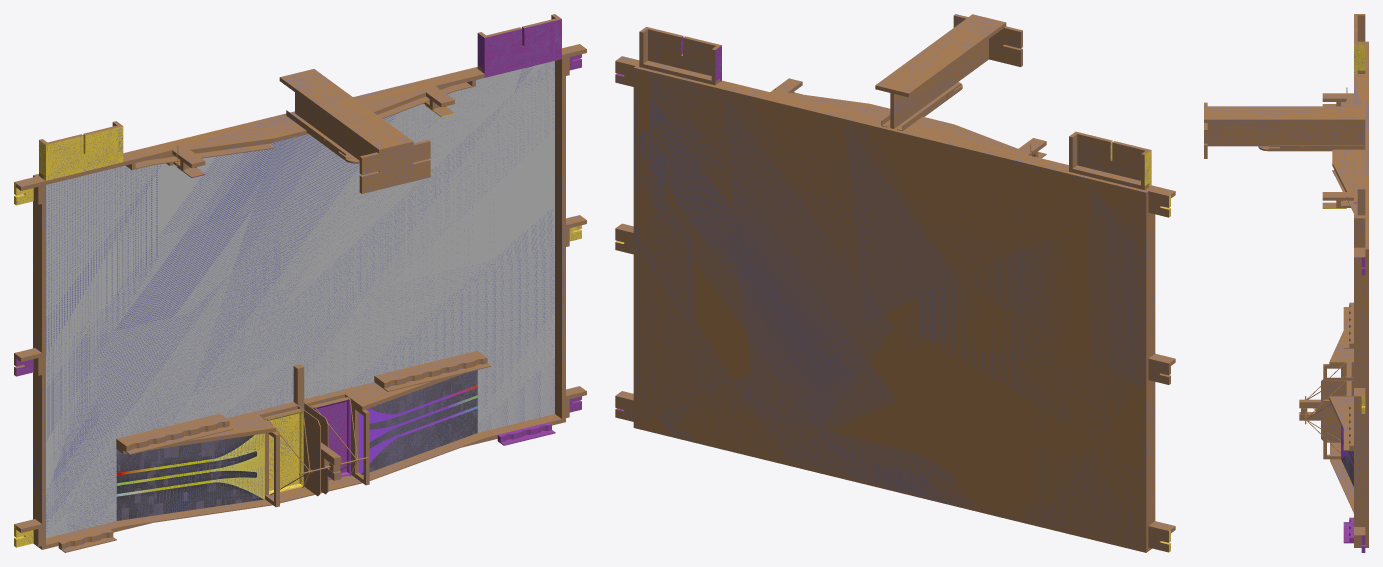
The picture shows the model from 3 angles, left to right: view 1: azimuth 30°, elevation 25°; view 2: azimuth 150°, elevation 25°; view 3: azimuth 270°, elevation 25°; orthographic projection. The views are drawn at different scales.
Parts seen in each view (by area): view 1: skp1QrTY0 (×21); view 2: skp1QrTY0 (×5); view 3: skp1QrTY0 (×15).
Part boxes in pixels (left/top/right/bottom): skp1QrTY0 (×21): left=33, top=14, right=565, bottom=552; skp1QrTY0 (×5): left=633, top=14, right=1155, bottom=552; skp1QrTY0 (×15): left=1204, top=14, right=1368, bottom=547.
Bounding box in the file's own units: 129 × 40.24 × 89.72.
